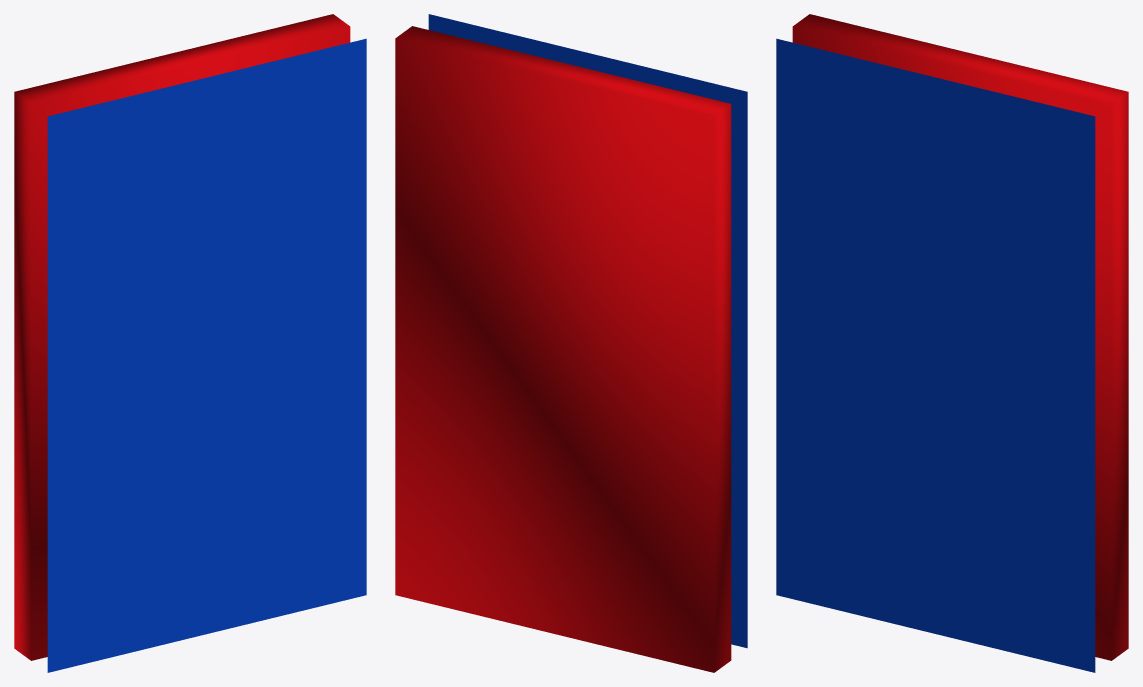
Rendered from wall.FBX.
3 views of the same model, side by side, from view 1: azimuth 30°, elevation 25°; view 2: azimuth 150°, elevation 25°; view 3: azimuth 330°, elevation 25° (orthographic).
Parts seen in each view (by area): view 1: Box001; view 2: Box001; view 3: Box001.
Part boxes in pixels (left/top/right/bottom): Box001: left=14, top=14, right=366, bottom=672; Box001: left=395, top=14, right=747, bottom=672; Box001: left=776, top=14, right=1128, bottom=672.
Size of the model in its own units: 118 by 197 by 21.51.
